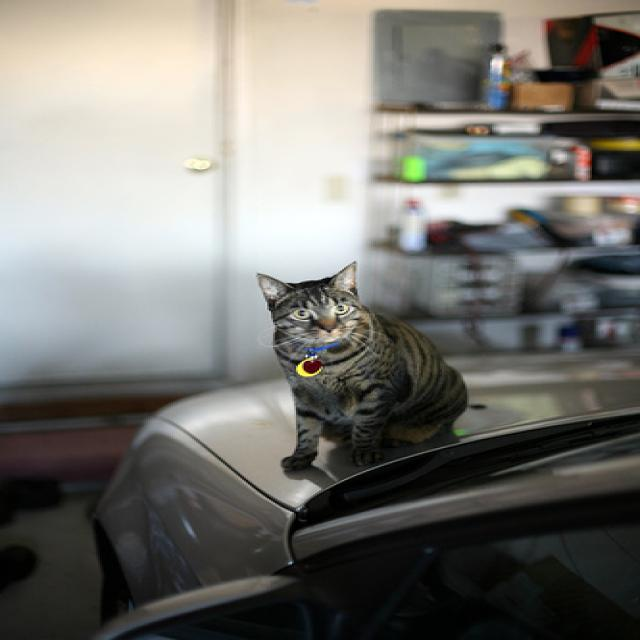left eye: (332, 302, 350, 315)
